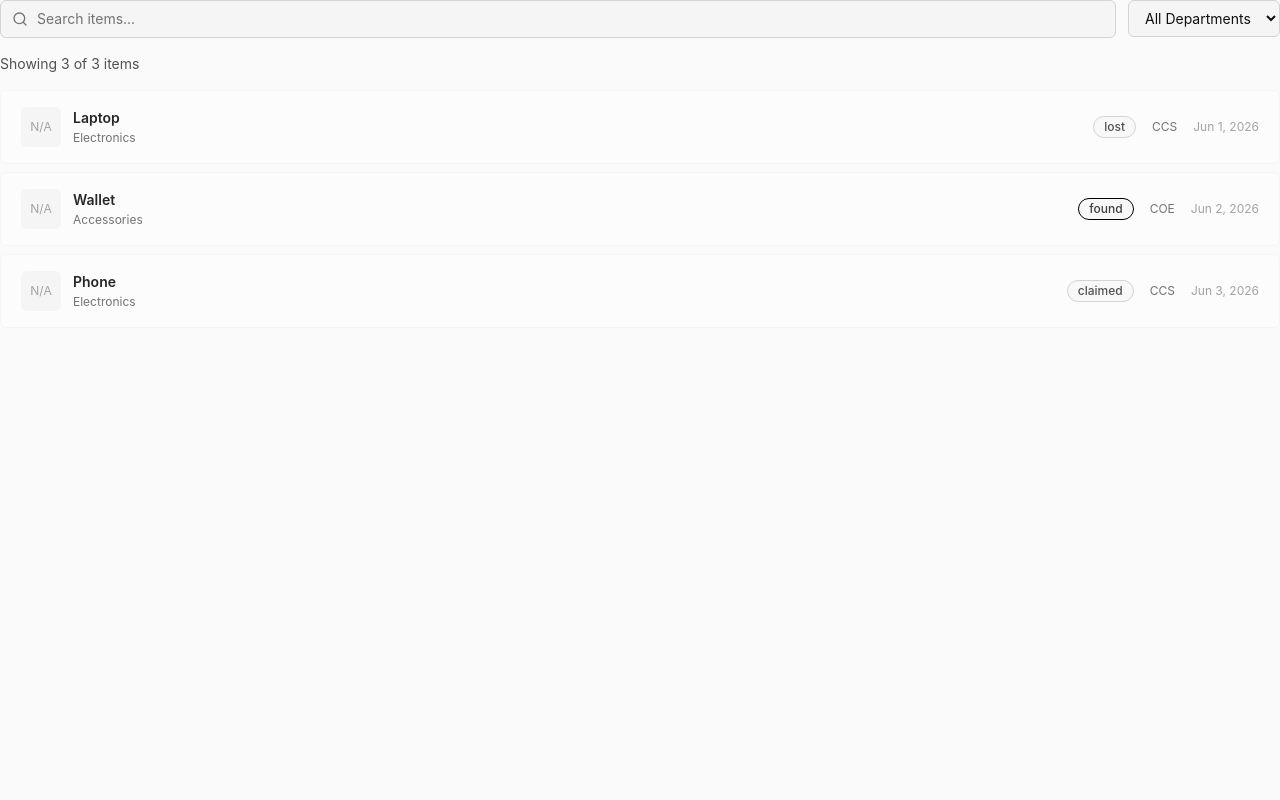
Test: GlobalLedger › detail modal › opens modal when clicking an item row
// Click the laptop row
Click the text "Laptop".
click(96, 118)  # box [73, 109, 120, 126]
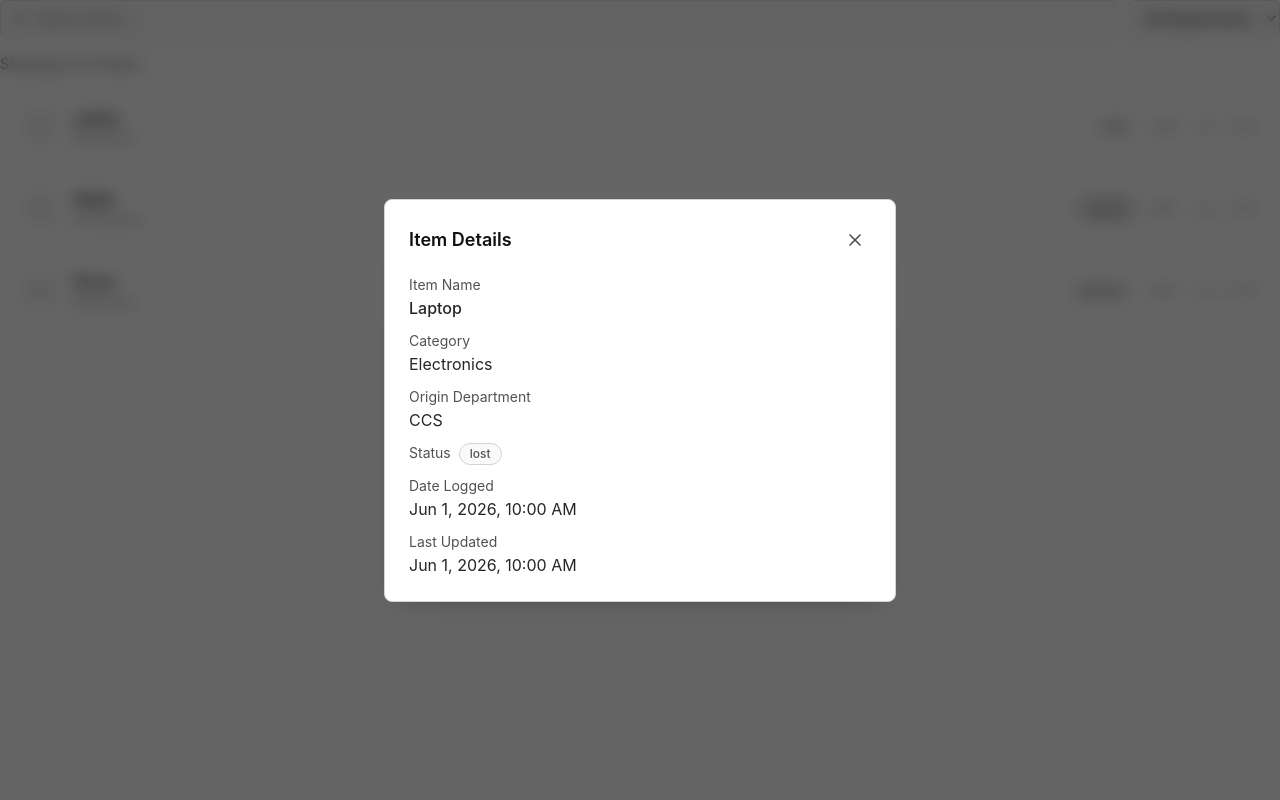
Expected: the heading "Item Details" is shown, [409, 226, 512, 254]
